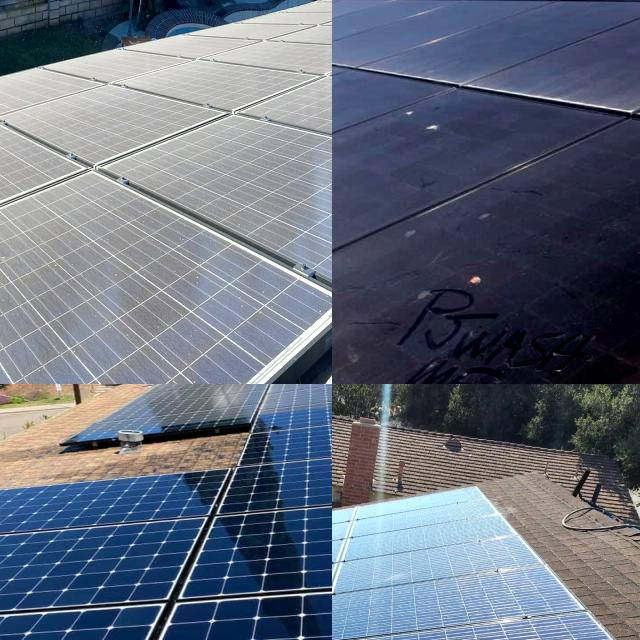crack: (0, 512, 247, 624), (332, 566, 627, 640), (196, 500, 332, 640), (0, 472, 259, 540), (332, 598, 640, 640), (198, 427, 332, 520), (217, 400, 332, 460), (332, 599, 486, 640)
dust: (332, 257, 640, 384), (0, 236, 186, 384), (332, 89, 487, 232), (487, 129, 614, 242), (208, 133, 332, 242), (402, 0, 582, 75), (9, 72, 120, 159), (164, 45, 270, 101), (197, 239, 235, 384), (280, 14, 332, 118), (0, 110, 42, 212), (58, 186, 122, 222)
